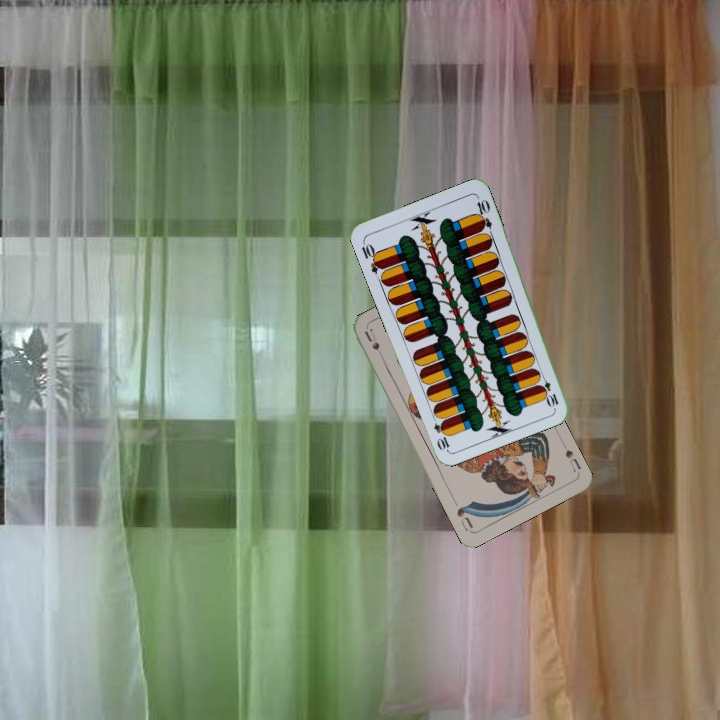E10: (357, 237, 386, 276), (536, 370, 561, 409)
SU: (360, 325, 387, 364), (558, 438, 584, 476)
